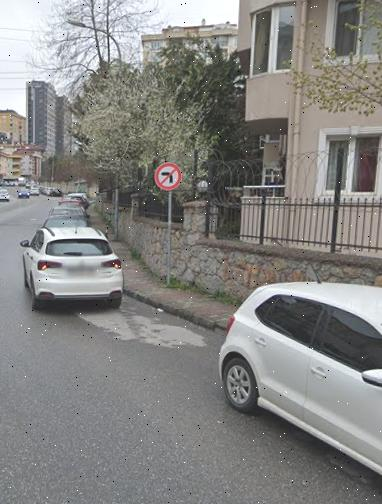leftturnsareforbidden: (153, 164, 182, 190)
